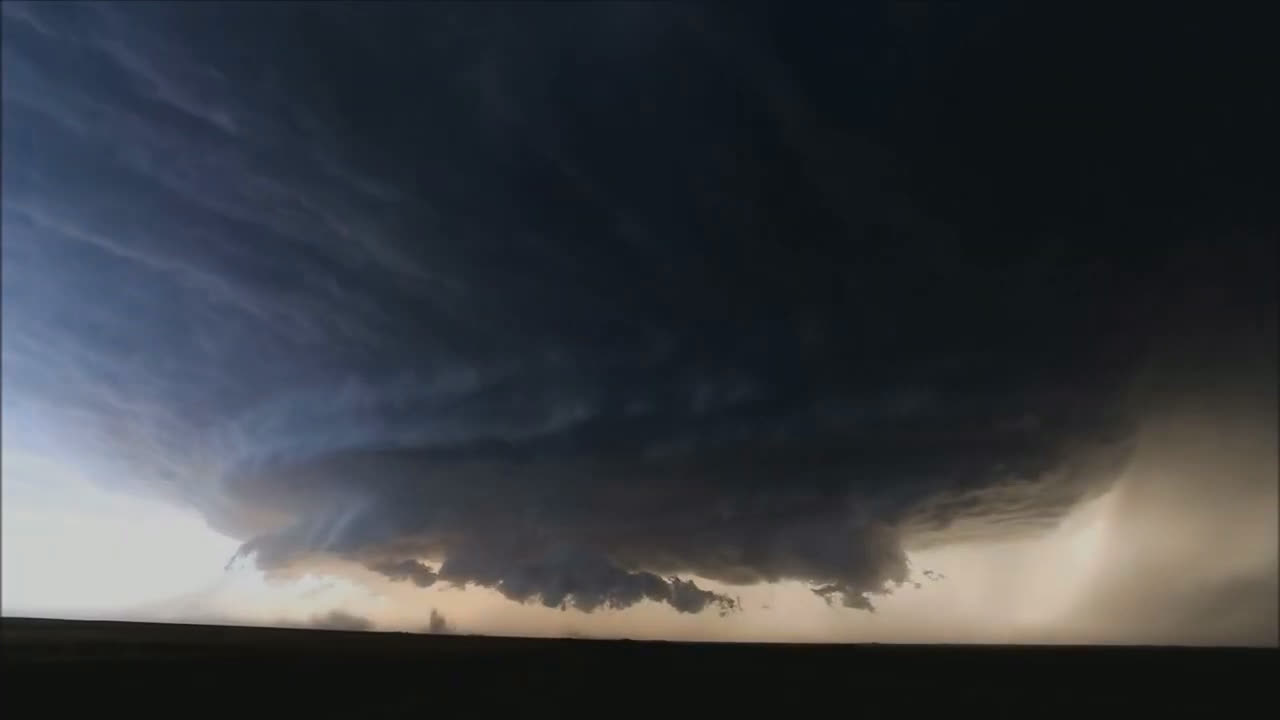FFD: (1082, 397, 1280, 646)
RFD: (230, 561, 519, 637)
mesocyclone: (189, 274, 1143, 561)
striations: (200, 342, 1074, 504)
wall cloud: (225, 512, 949, 617)
